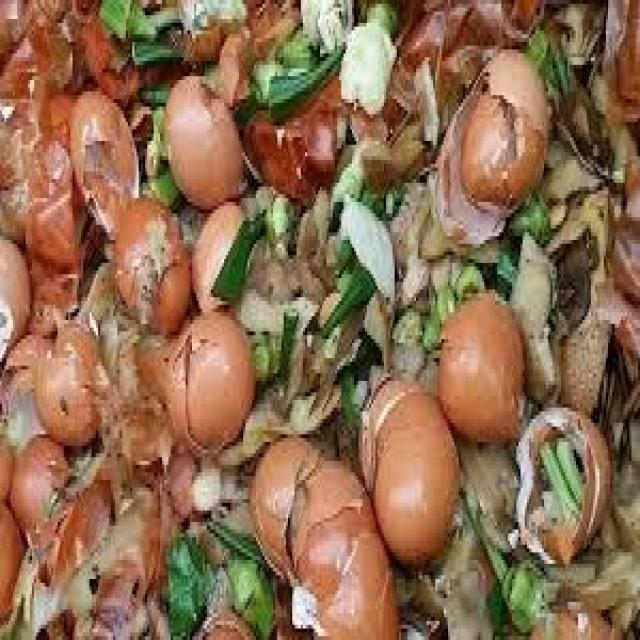food_waste: (397, 38, 566, 238), (43, 32, 155, 277), (417, 265, 551, 462)
